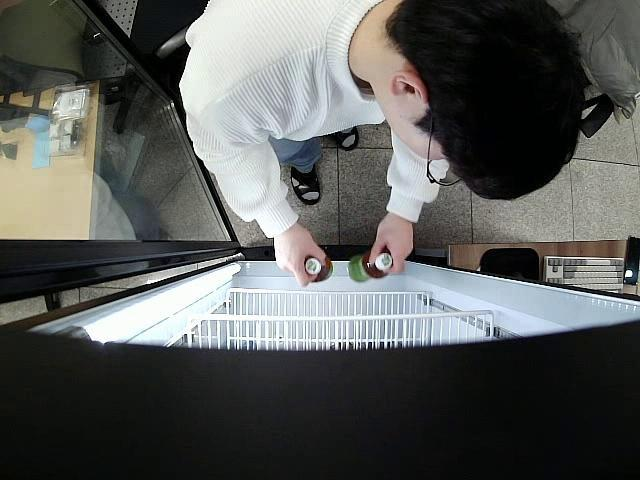19_17cha: (349, 251, 392, 283), (304, 256, 332, 283)
